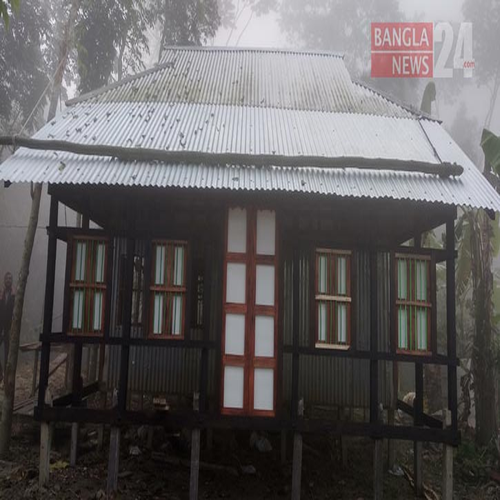Tin-shade House: (16, 43, 475, 433)
